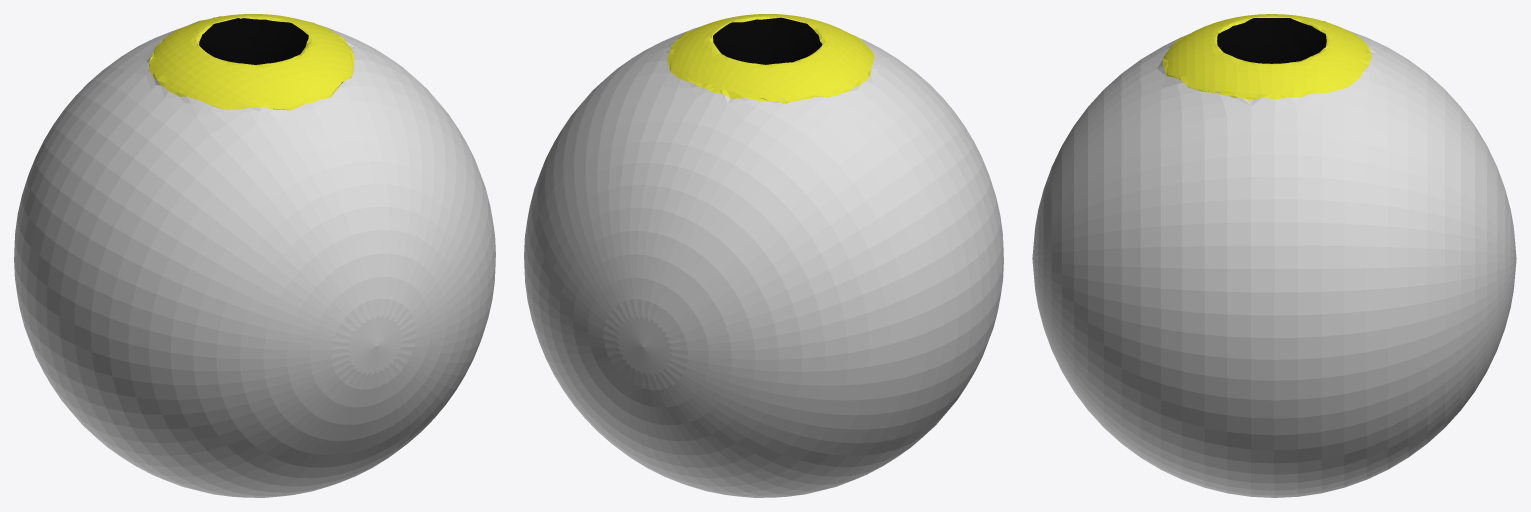
The model's file is EyeCreatureEyeball.fbx.
The picture shows the model from 3 angles, left to right: view 1: azimuth 30°, elevation 25°; view 2: azimuth 150°, elevation 25°; view 3: azimuth 270°, elevation 25°; orthographic projection.
Parts seen in each view (by area): view 1: CreatureEyeball; view 2: CreatureEyeball; view 3: CreatureEyeball.
Part boxes in pixels (left/top/right/bottom): CreatureEyeball: left=14, top=14, right=495, bottom=497; CreatureEyeball: left=524, top=14, right=1003, bottom=497; CreatureEyeball: left=1032, top=14, right=1516, bottom=497.
Size of the model in its own units: 197 by 197 by 200.
